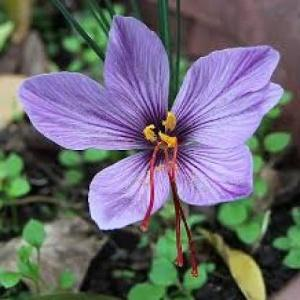Saffron: (16, 15, 287, 228)
